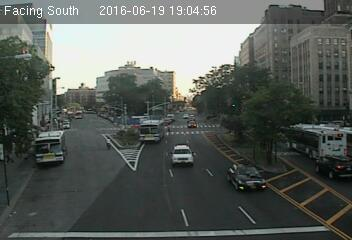neg: (260, 146, 274, 164), (298, 177, 310, 193), (133, 144, 142, 156)
